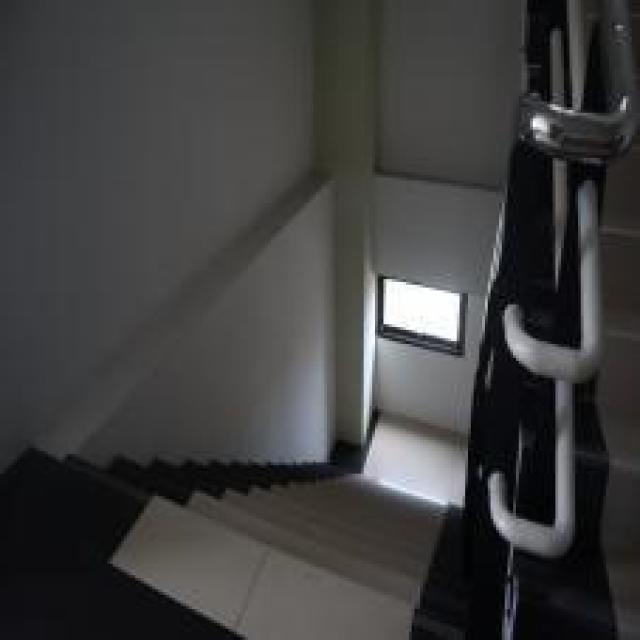downstair: (86, 486, 407, 630)
